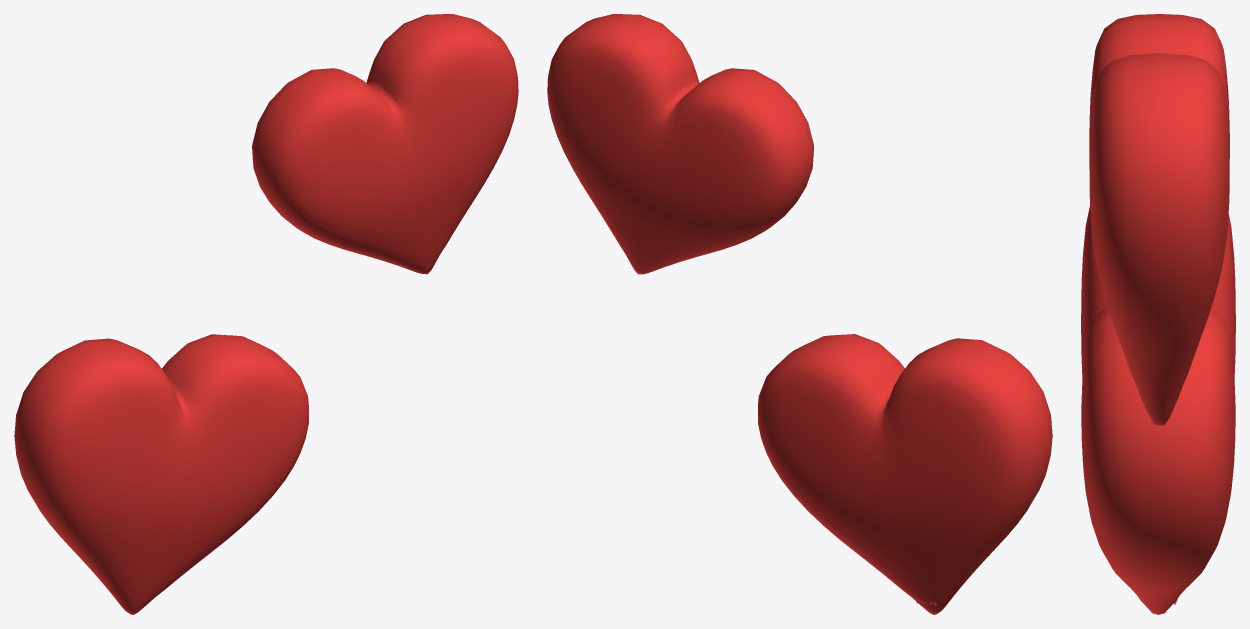
File: two_hearts.glb
3 views of the same model, side by side, from view 1: azimuth 30°, elevation 25°; view 2: azimuth 150°, elevation 25°; view 3: azimuth 270°, elevation 25° (orthographic). The views are drawn at different scales.
Visible parts, largest first — view 1: hfdjkslfjkds.012; view 2: hfdjkslfjkds.012; view 3: hfdjkslfjkds.012.
Part boxes in pixels (x1=…): hfdjkslfjkds.012: x1=14, y1=14, x2=518, y2=614; hfdjkslfjkds.012: x1=547, y1=14, x2=1052, y2=614; hfdjkslfjkds.012: x1=1081, y1=14, x2=1235, y2=614.
Size of the model in its own units: 1.8 by 1.82 by 0.3289.
1 material, 1 textured.
